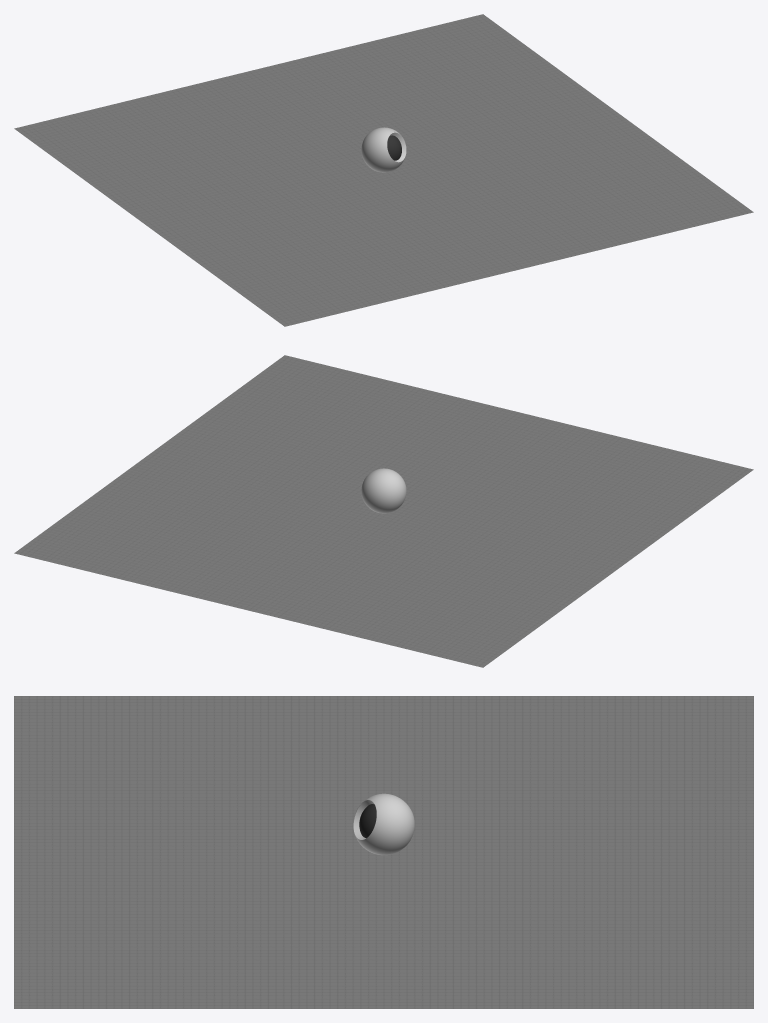
Rendered from matball_gold02_envlight.obj.
3 views of the same model, one above another, from view 1: azimuth 30°, elevation 25°; view 2: azimuth 150°, elevation 25°; view 3: azimuth 270°, elevation 25° (orthographic). The views are drawn at different scales.
Visible parts, largest first — view 1: floor, matball; view 2: floor, matball; view 3: floor, matball.
Part boxes in pixels (x1,y1,x2,y2): floor: (14, 14, 753, 326); matball: (361, 127, 406, 172); floor: (14, 355, 753, 667); matball: (361, 468, 406, 513); floor: (14, 696, 753, 1008); matball: (353, 793, 414, 855).
Size of the model in its own units: 24 by 2 by 24.
3 materials, 1 textured.
